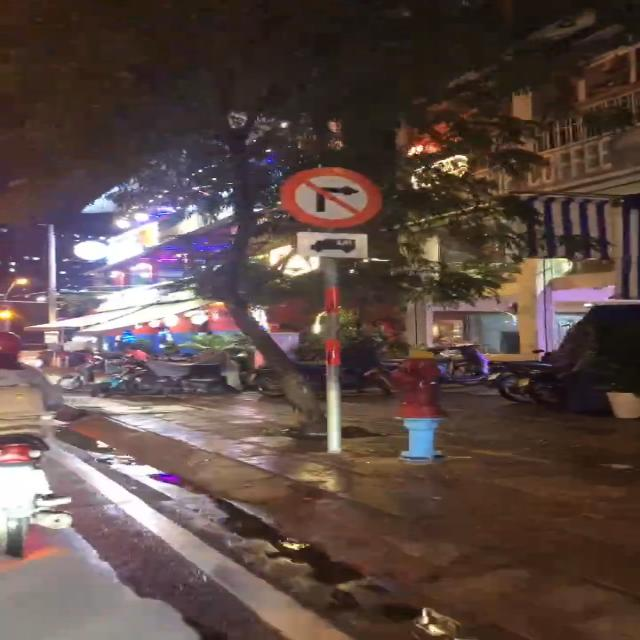Bien bao cam re phai: (270, 163, 382, 228)
